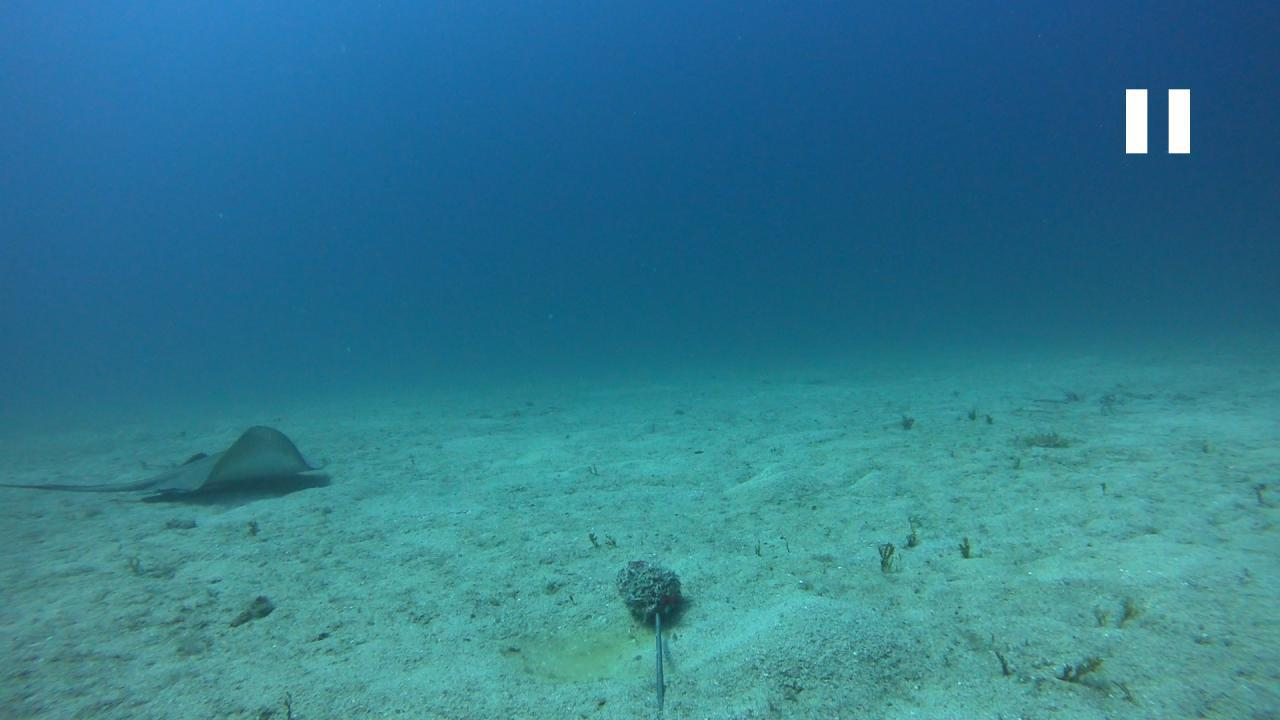dasyatis: (0, 423, 336, 499)
